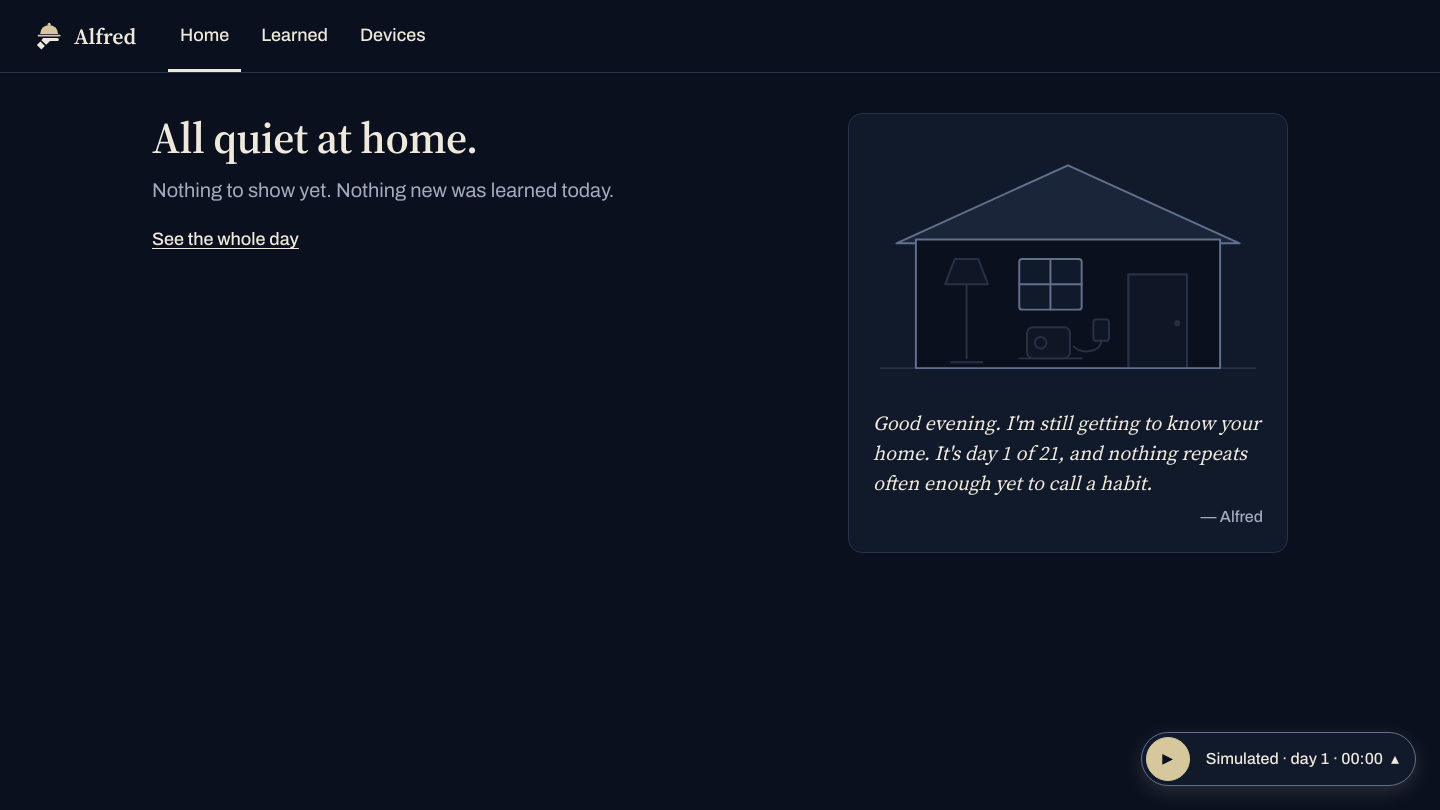
Test: the tabs switch between Home and Learned
Check: the link with aria-label "Alfred home" is shown, box 32,20 -> 136,52
Press ArrowRight
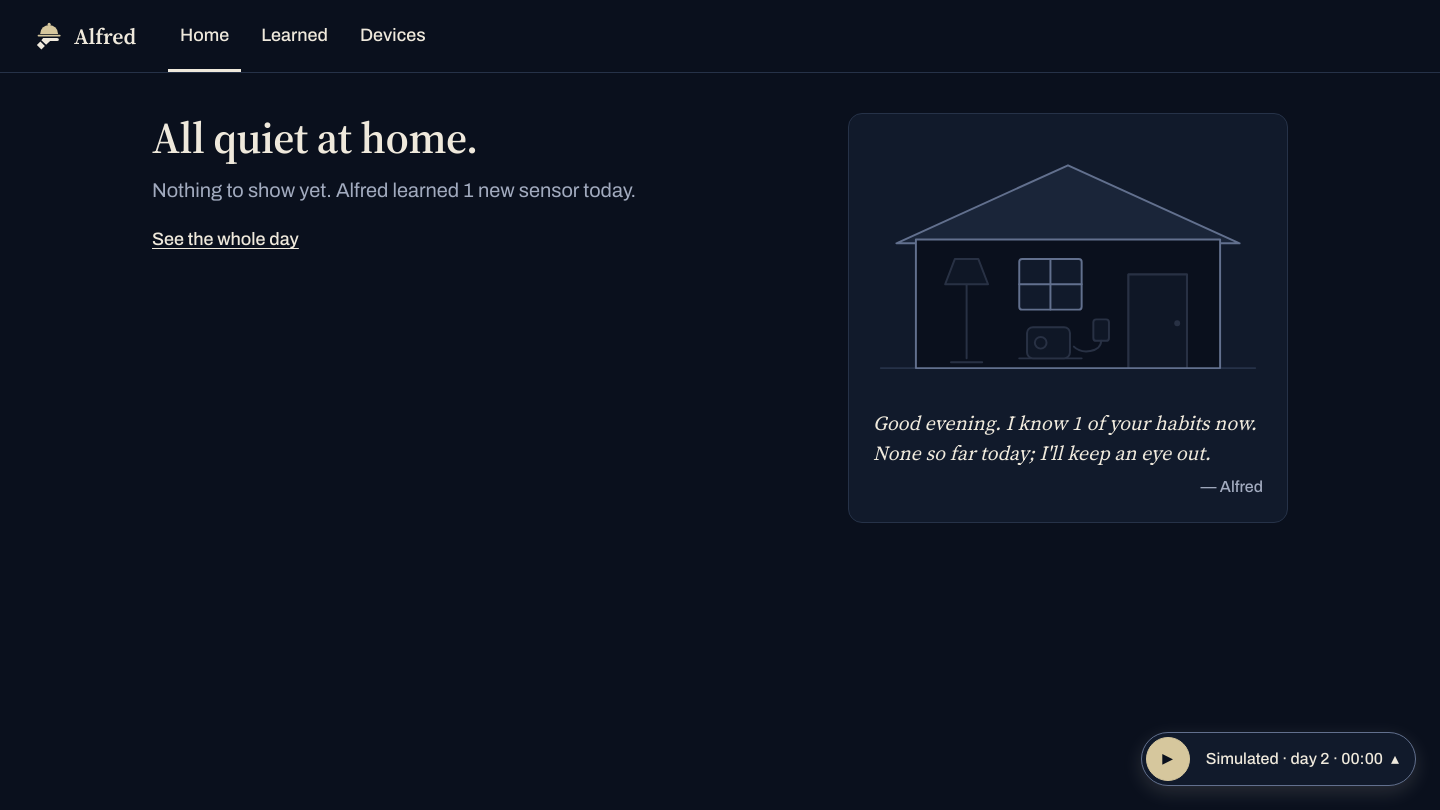
Check: the button "Simulated · day 2 · 00:00 ▴" is shown, box 1194,737 -> 1411,781
Click the link "Learned" at (295, 34), box 261,24 -> 328,44
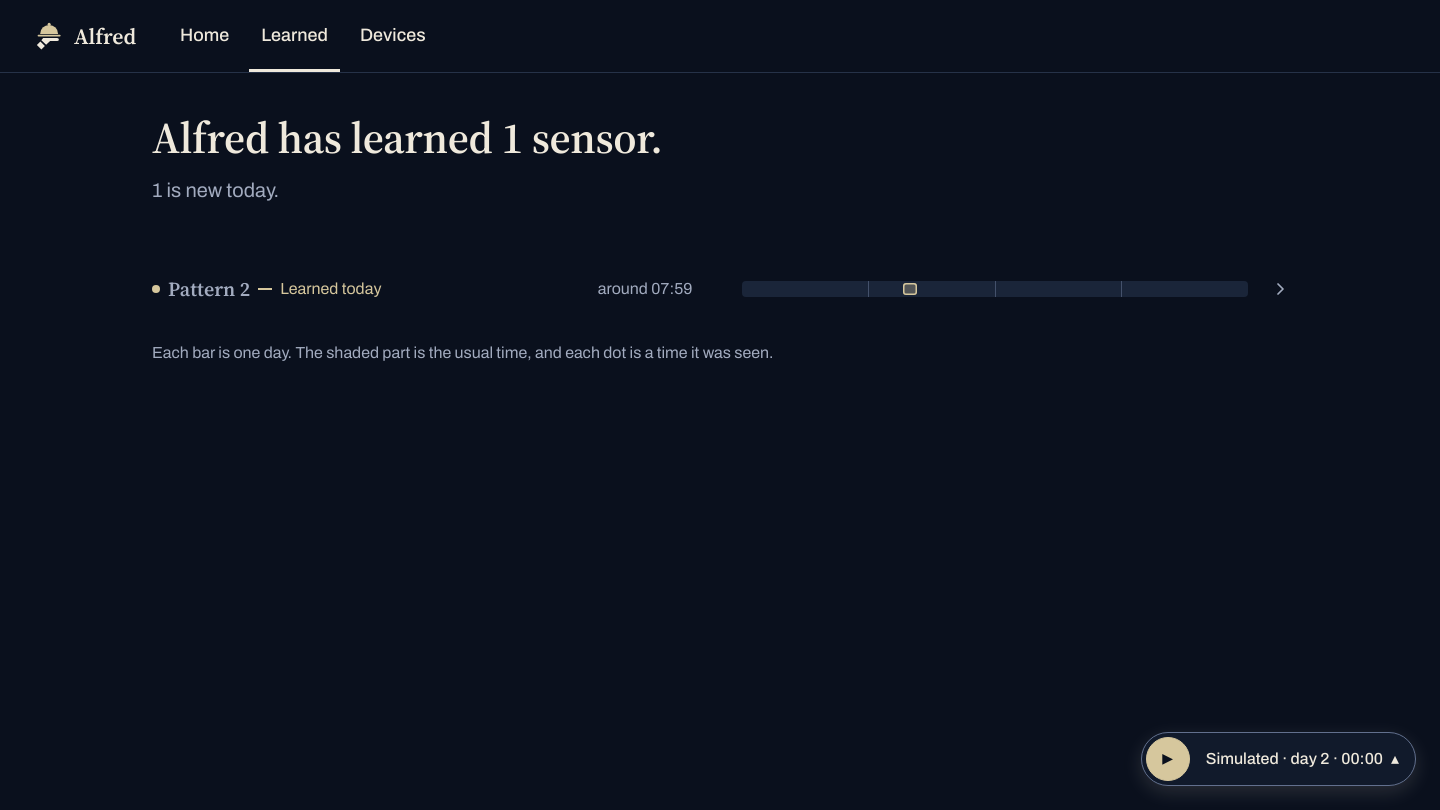
Check: the list named "Learned sensors" is shown, box 152,275 -> 1288,303
Click the link "Home" at (205, 34), box 180,24 -> 229,44
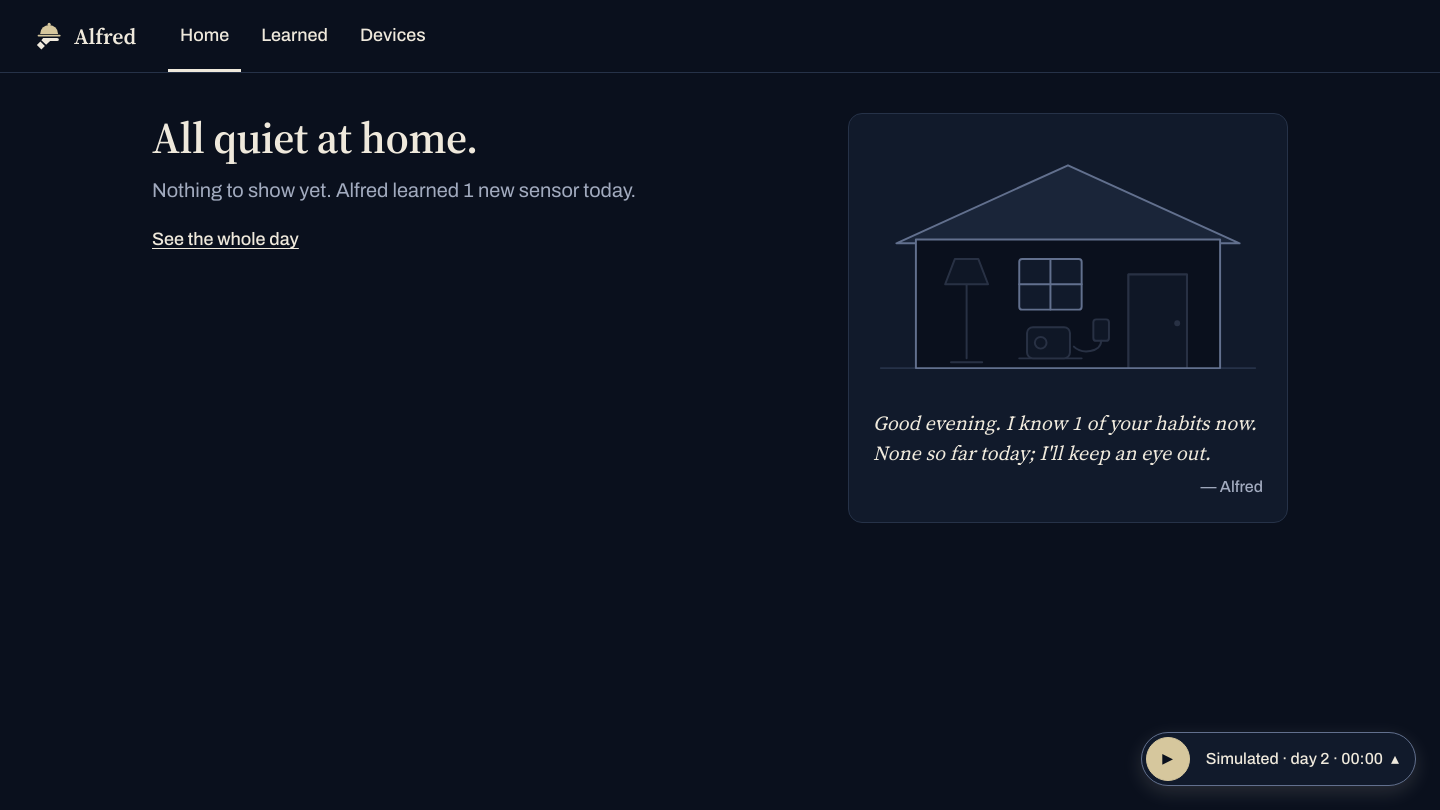
Check: the link "See the whole day" is shown, box 152,229 -> 299,249
